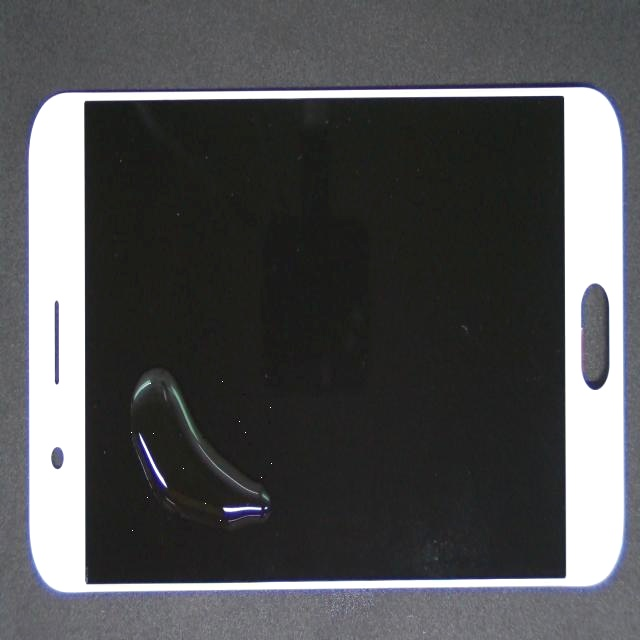oil: (94, 173, 228, 570)
